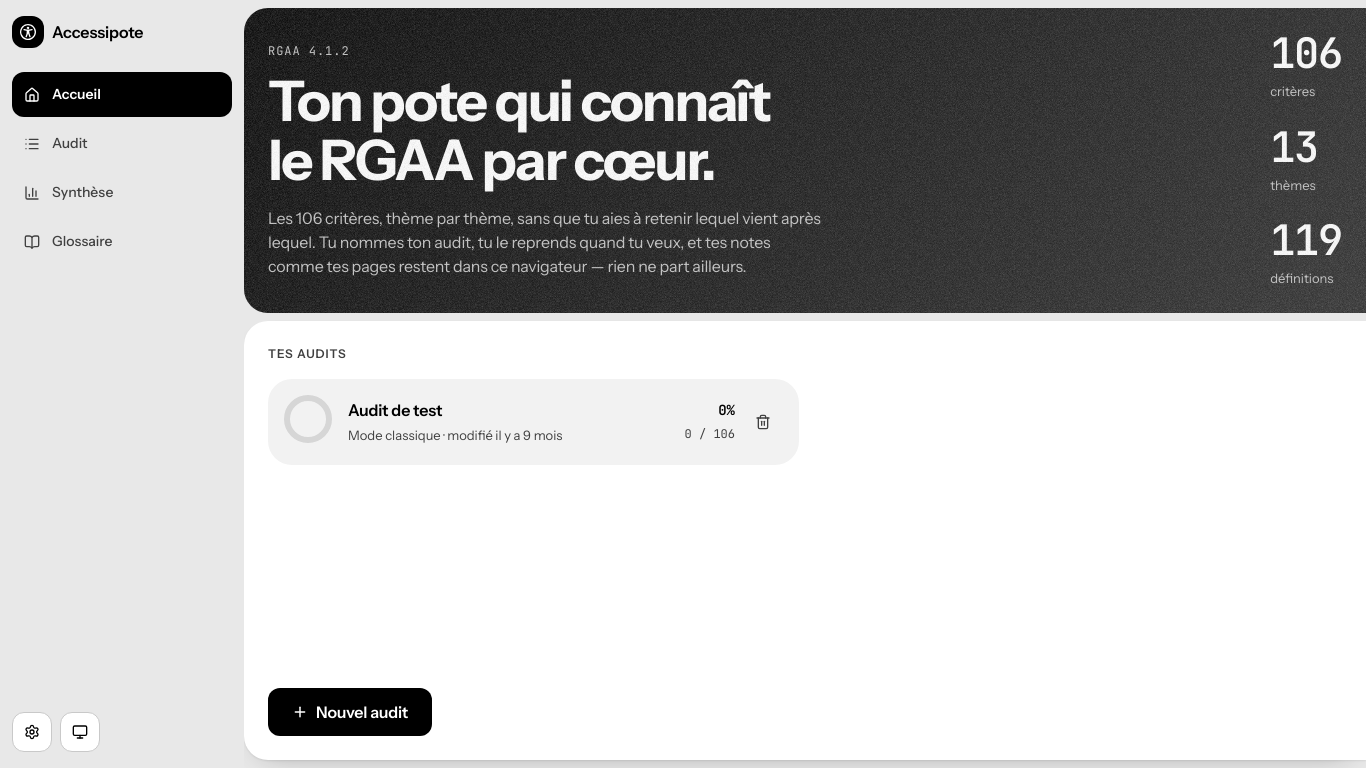
it: App — navigation entre les vues › renvoie vers l'accueil quand aucun audit n'est ouvert
The image size is (1366, 768).
Click the button "Audit" at (122, 144), box left=12, top=121, right=232, bottom=166
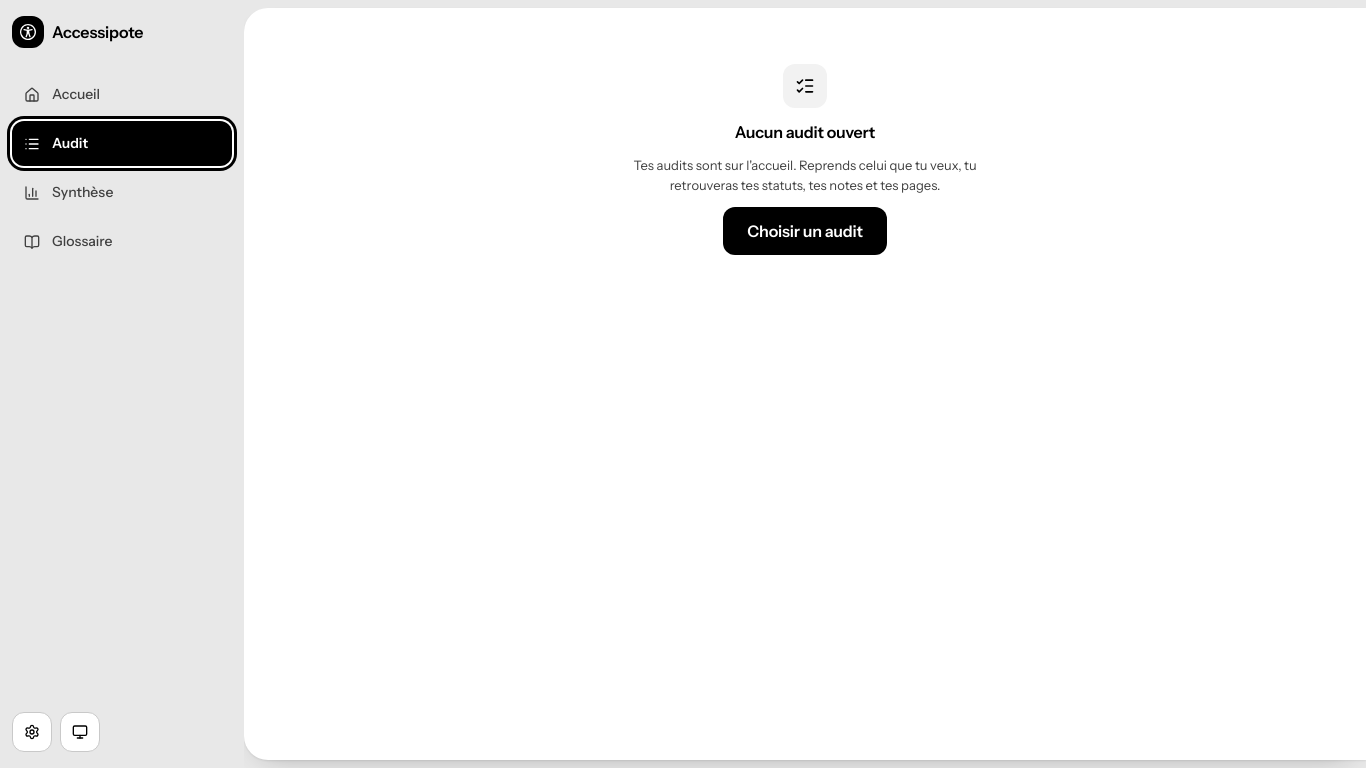
Check: the heading "Aucun audit ouvert" is shown, box left=735, top=120, right=875, bottom=144
Click the button "Synthèse" at (122, 192), box left=12, top=170, right=232, bottom=215
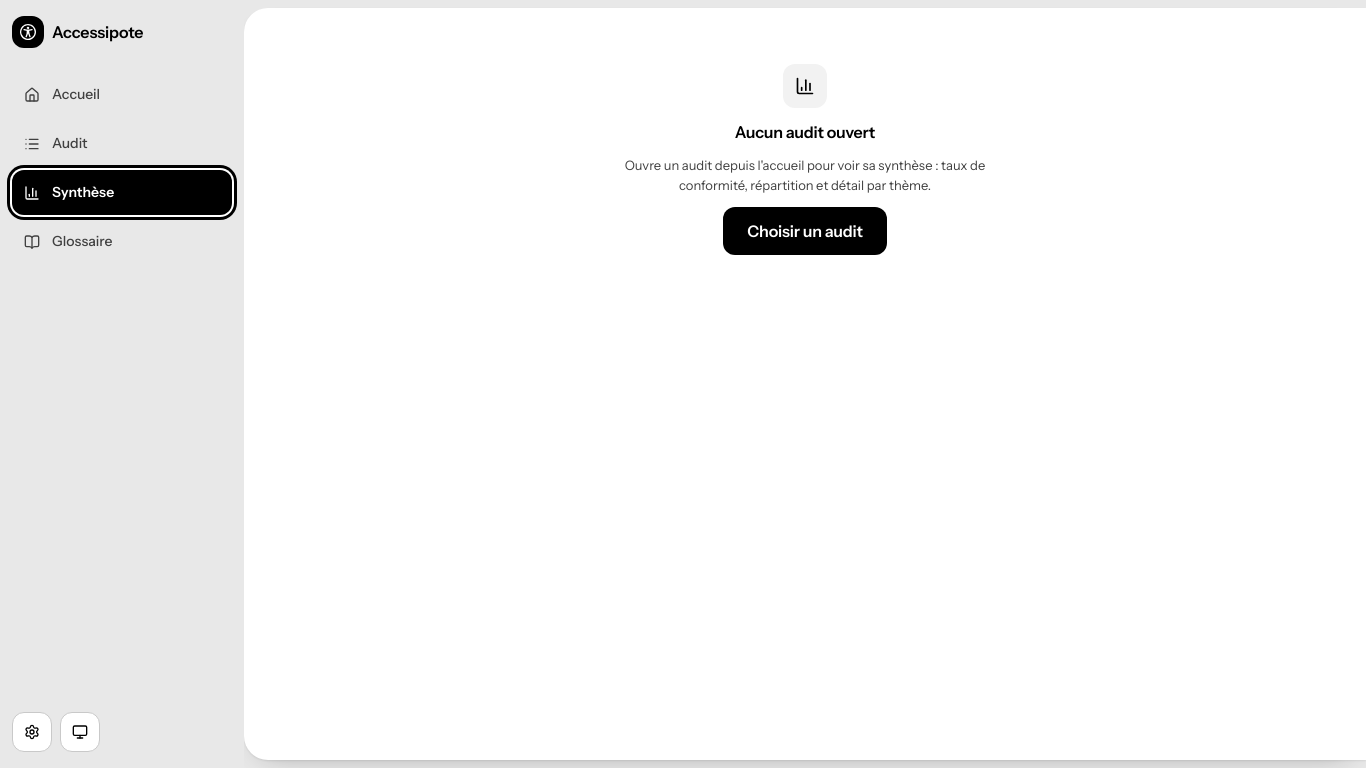
Check: the heading "Aucun audit ouvert" is shown, box left=735, top=120, right=875, bottom=144
Click the button "Choisir un audit" at (805, 231), box left=723, top=207, right=887, bottom=255
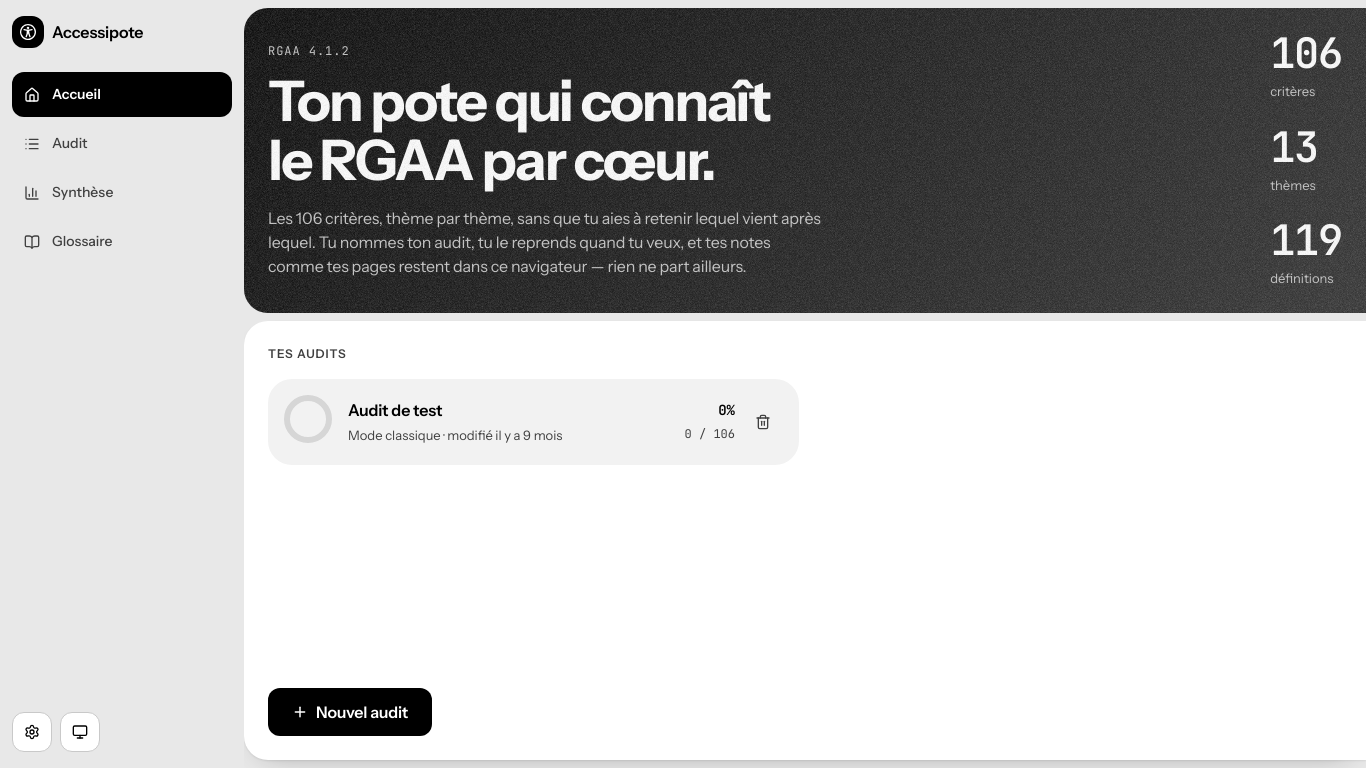
Check: the button that starts with "Audit de test" is shown, box left=284, top=394, right=735, bottom=448
